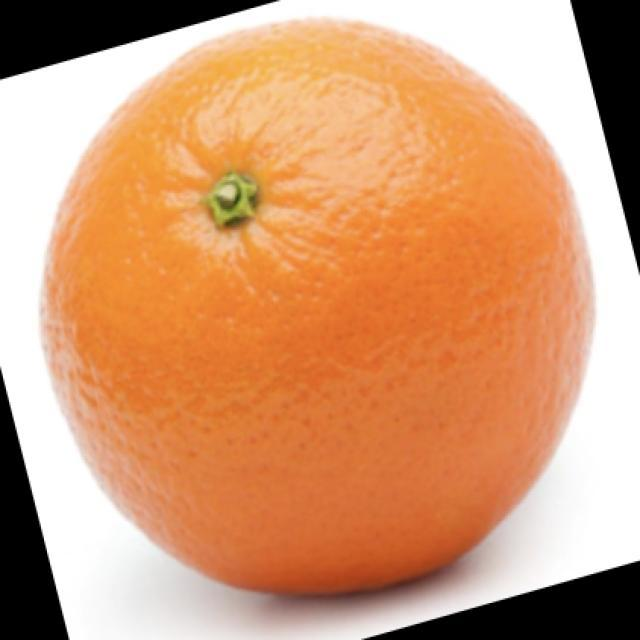matang: (44, 22, 591, 591)
